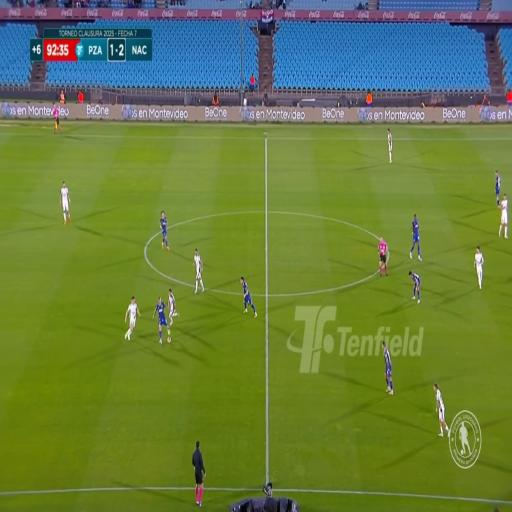Player: (432, 381, 450, 441), (156, 292, 172, 344), (408, 266, 426, 310), (191, 249, 204, 300), (382, 338, 394, 391), (124, 298, 138, 340), (411, 210, 422, 258), (241, 277, 256, 312), (62, 180, 72, 230), (474, 246, 484, 289), (168, 285, 178, 327), (500, 192, 509, 237), (386, 122, 394, 169), (160, 208, 168, 248), (496, 165, 502, 201)
Referee: (376, 230, 390, 280), (52, 98, 59, 134)
